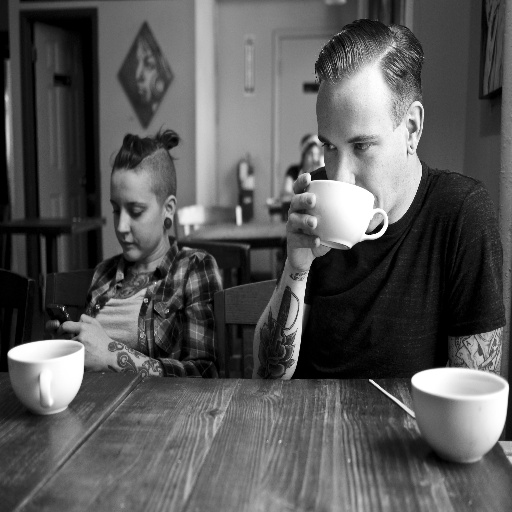hand: (268, 173, 369, 267), (60, 312, 111, 373), (44, 319, 74, 341)
